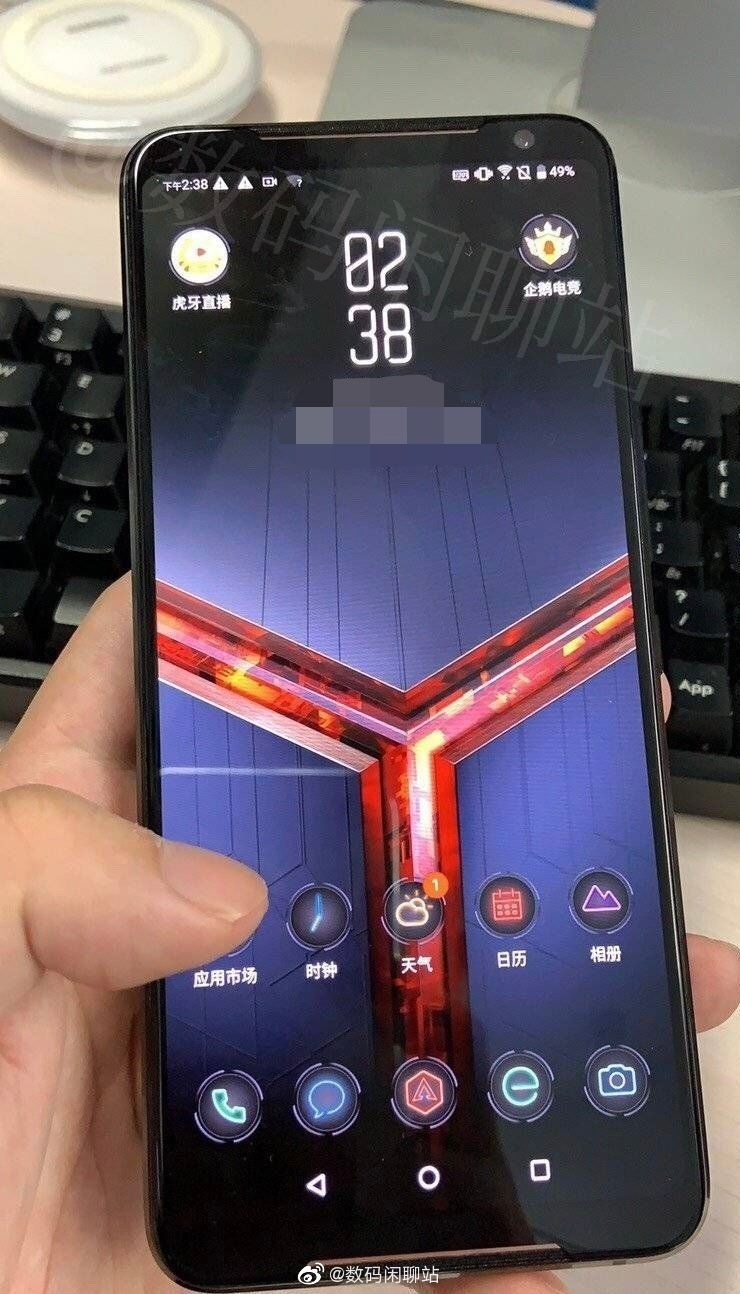Cell Phone: (116, 109, 704, 1277)
